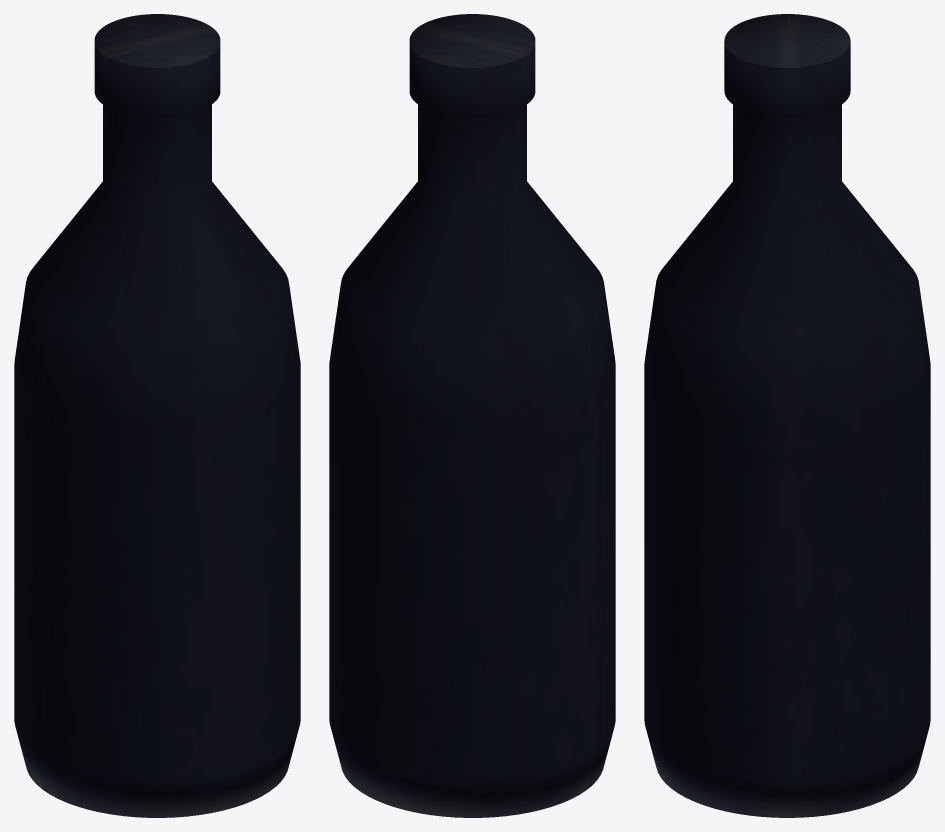
Rendered from ORI-43.glb.
3 views of the same model, side by side, from view 1: azimuth 30°, elevation 25°; view 2: azimuth 150°, elevation 25°; view 3: azimuth 270°, elevation 25° (orthographic).
Size of the model in its own units: 0.07 by 0.1946 by 0.07.
Materials: 1 (1 with a texture image).
